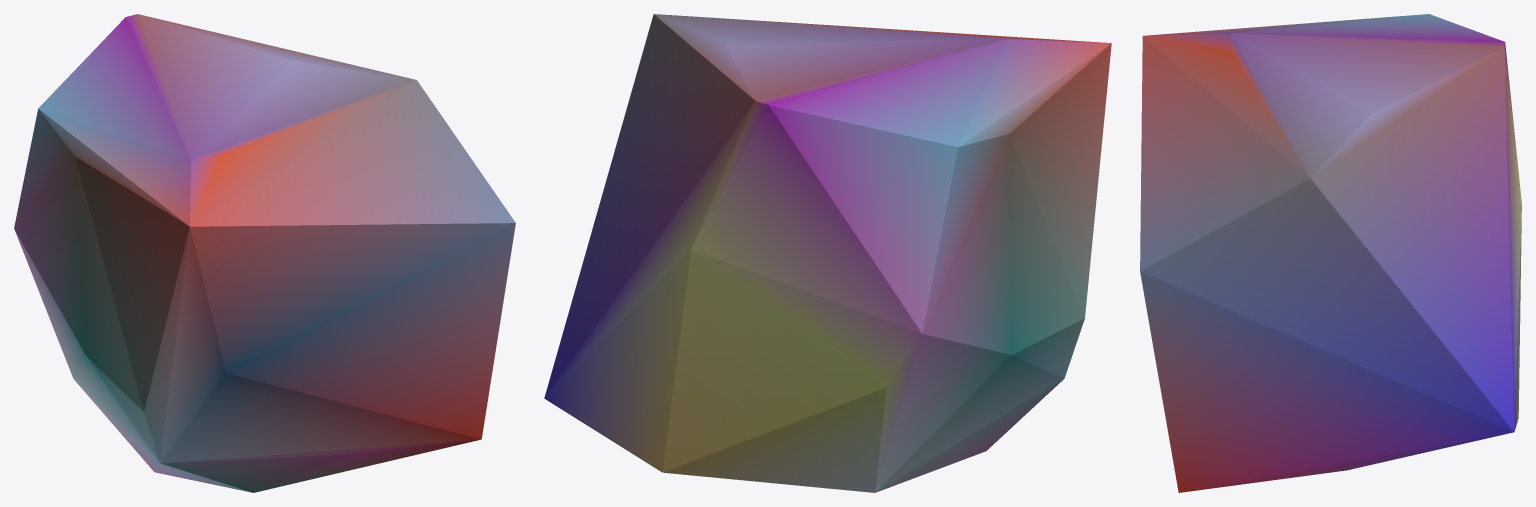
File: dummy_ar_model.glb
The picture shows the model from 3 angles, left to right: view 1: azimuth 30°, elevation 25°; view 2: azimuth 150°, elevation 25°; view 3: azimuth 270°, elevation 25°; orthographic projection. The views are drawn at different scales.
Parts seen in each view (by area): view 1: world; view 2: world; view 3: world.
Part boxes in pixels (box(x1,y1,x2,y2)): world: box(14, 14, 515, 492); world: box(544, 14, 1111, 492); world: box(1140, 14, 1521, 492).
Bounding box in the file's own units: 0.9089 × 0.9832 × 0.8799.
